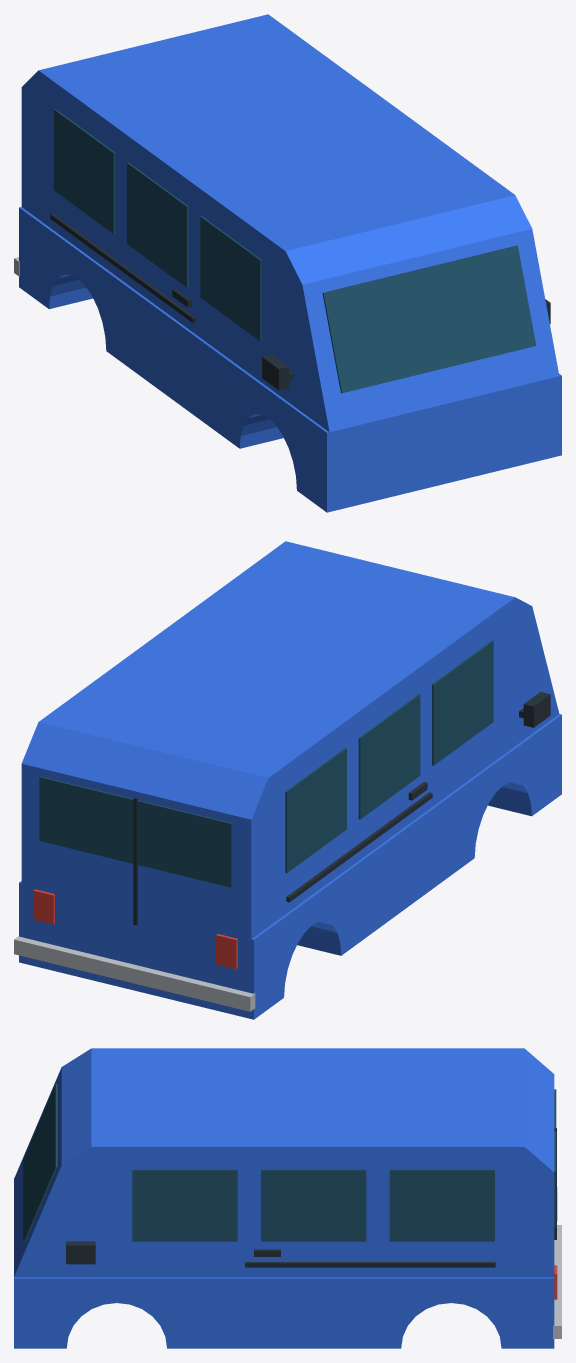
File: van.glb
The picture shows the model from 3 angles, top to bottom: view 1: azimuth 30°, elevation 25°; view 2: azimuth 150°, elevation 25°; view 3: azimuth 270°, elevation 25°; orthographic projection. The views are drawn at different scales.
Visible parts, largest first — view 1: van-cabin, arch-cut-shell, windshield, side-window (×3), sliding-door-track, mirror; view 2: van-cabin, arch-cut-shell, side-window (×3), rear-window, rear-bumper, rear-light (×2), sliding-door-track, mirror; view 3: van-cabin, arch-cut-shell, side-window (×3), windshield, sliding-door-track, rear-bumper, mirror, rear-window.
Boxes of the visible parts, <box> form: van-cabin: <box>21,14,559,432</box>; arch-cut-shell: <box>19,207,561,512</box>; windshield: <box>322,245,536,393</box>; side-window (×3): <box>53,108,261,341</box>; sliding-door-track: <box>50,213,196,323</box>; mirror: <box>262,354,288,390</box>; van-cabin: <box>21,541,559,939</box>; arch-cut-shell: <box>19,714,561,1019</box>; side-window (×3): <box>285,640,493,873</box>; rear-window: <box>39,776,232,887</box>; rear-bumper: <box>14,936,255,1011</box>; rear-light (×2): <box>33,889,237,969</box>; sliding-door-track: <box>286,792,432,902</box>; mirror: <box>523,692,550,727</box>; van-cabin: <box>14,1048,554,1277</box>; arch-cut-shell: <box>14,1178,554,1348</box>; side-window (×3): <box>132,1169,494,1241</box>; windshield: <box>23,1083,57,1243</box>; sliding-door-track: <box>245,1262,495,1267</box>; rear-bumper: <box>553,1225,561,1338</box>; mirror: <box>66,1241,95,1264</box>; rear-window: <box>554,1089,556,1227</box>.
Size of the model in its own units: 2.14 by 1.72 by 4.26.
